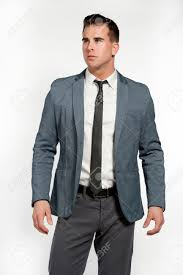F_M_suit jacket: (25, 60, 174, 227)
F_belt: (73, 174, 123, 202)
F_tie: (84, 78, 113, 198)
